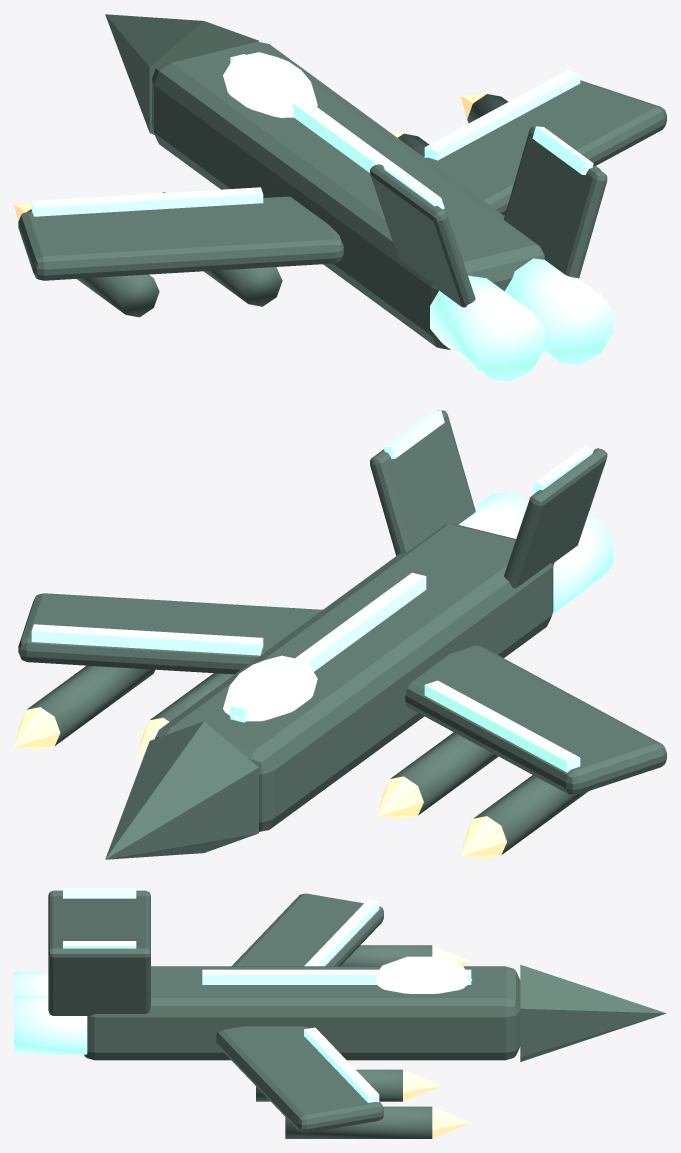
Rendered from ship_hawk.glb.
The picture shows the model from 3 angles, top to bottom: view 1: azimuth 30°, elevation 25°; view 2: azimuth 150°, elevation 25°; view 3: azimuth 270°, elevation 25°; orthographic projection. The views are drawn at different scales.
Visible parts, largest first — view 1: hull, wing, wing.001, tail.001, engine, engine.001, tail, nose, cockpit, wing_glow, wing_glow.001, spine_glow (+5 smaller); view 2: hull, wing, nose, wing.001, tail.001, tail, cockpit, wing_glow.001, rocket.003, rocket, spine_glow, rocket.001 (+9 smaller); view 3: hull, wing.001, nose, tail.001, wing, tail, engine.001, cockpit, spine_glow, rocket.003, wing_glow.001, rocket.001 (+7 smaller).
Part boxes in pixels (box(x1,y1,x2,y2)): hull: box(152, 41, 544, 349); wing: box(18, 196, 343, 280); wing.001: box(425, 80, 666, 215); tail.001: box(504, 126, 607, 278); engine: box(430, 275, 544, 381); engine.001: box(504, 258, 613, 364); tail: box(370, 164, 475, 307); nose: box(105, 14, 258, 134); cockpit: box(223, 52, 317, 117); wing_glow: box(31, 187, 263, 216); wing_glow.001: box(424, 70, 580, 160); spine_glow: box(230, 54, 391, 172); hull: box(155, 524, 553, 831); wing: box(405, 645, 666, 794); nose: box(105, 721, 258, 859); wing.001: box(18, 593, 322, 674); tail.001: box(370, 410, 475, 555); tail: box(504, 448, 607, 588); cockpit: box(223, 655, 317, 721); wing_glow.001: box(31, 624, 263, 655); rocket.003: box(27, 665, 155, 745); rocket: box(390, 732, 498, 815); spine_glow: box(230, 572, 426, 722); rocket.001: box(473, 775, 588, 854); hull: box(84, 966, 520, 1060); wing.001: box(216, 1026, 383, 1132); nose: box(520, 964, 666, 1061); tail.001: box(48, 947, 150, 1017); wing: box(232, 893, 383, 966); tail: box(48, 890, 150, 951); engine.001: box(14, 997, 87, 1054); cockpit: box(376, 956, 471, 993); spine_glow: box(202, 969, 471, 984); rocket.003: box(285, 1106, 432, 1138); wing_glow.001: box(304, 1027, 379, 1102); rocket.001: box(340, 945, 432, 966).
Bounding box in the file's own units: 2.2 × 0.6637 × 2.67.
